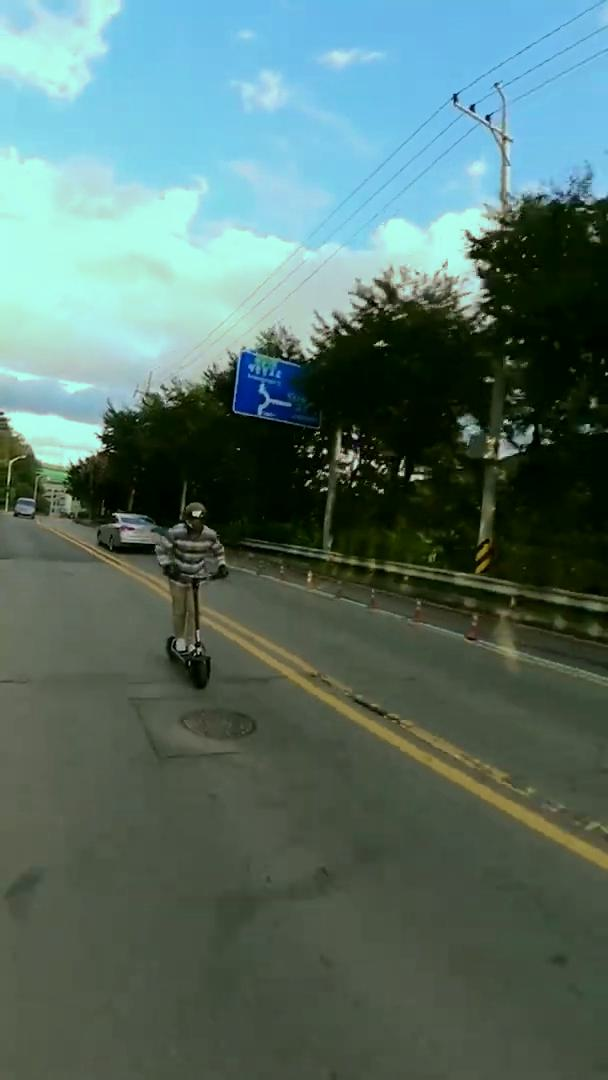helmet: (158, 498, 232, 693)
